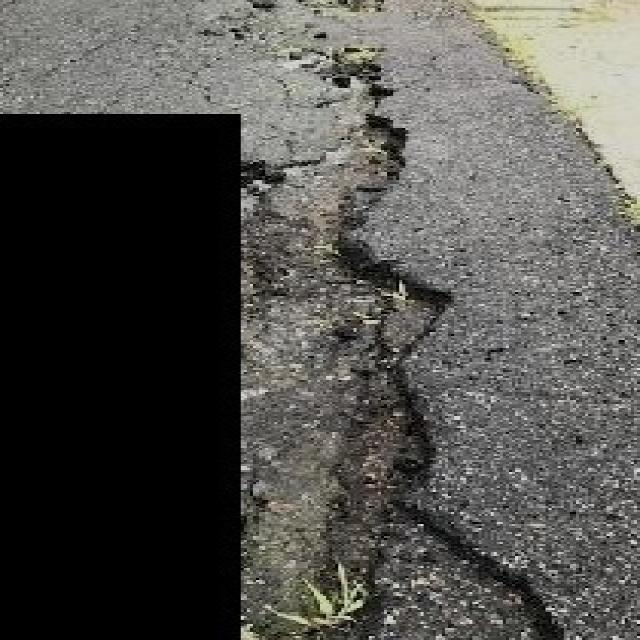road-pothole: (239, 51, 556, 638)
